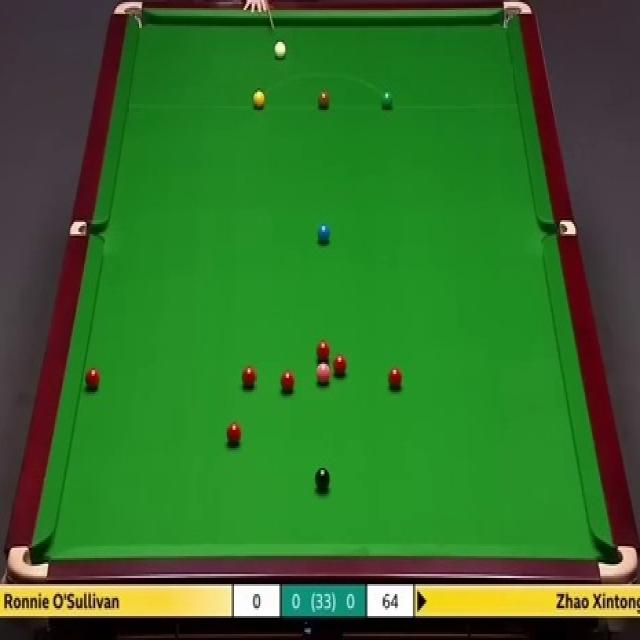black-ball: (315, 468, 331, 491)
blue-ball: (318, 225, 330, 244)
brown-ball: (318, 89, 330, 109)
green-ball: (380, 90, 395, 110)
pink-ball: (316, 364, 332, 387)
red-ball: (332, 354, 348, 378), (242, 365, 257, 390), (280, 371, 296, 394), (226, 422, 242, 444), (389, 367, 403, 390), (86, 369, 101, 390), (316, 341, 329, 362)
white-ball: (274, 40, 286, 60)
yellow-ball: (252, 88, 265, 110)
